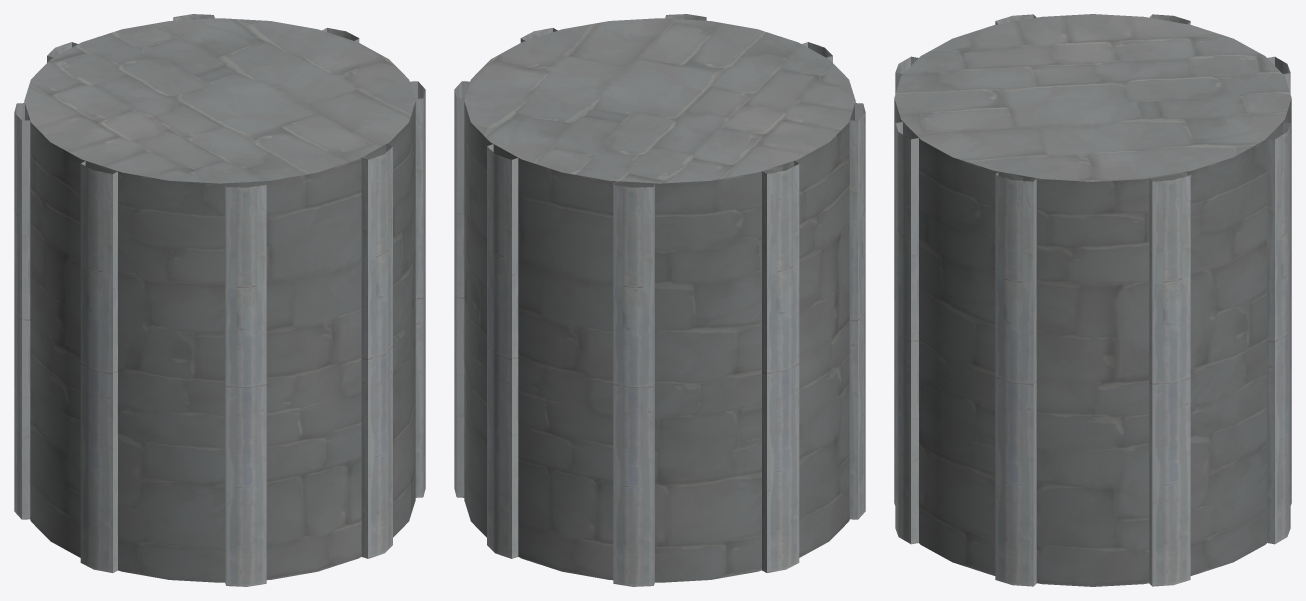
File: SM_TowerD_Mid.fbx
The picture shows the model from 3 angles, left to right: view 1: azimuth 30°, elevation 25°; view 2: azimuth 150°, elevation 25°; view 3: azimuth 270°, elevation 25°; orthographic projection.
Visible parts, largest first — view 1: SM_TowerD_Mid_LOD0; view 2: SM_TowerD_Mid_LOD0; view 3: SM_TowerD_Mid_LOD0.
Boxes of the visible parts, x1,y1,x2,y2 form: SM_TowerD_Mid_LOD0: (14,14,425,586); SM_TowerD_Mid_LOD0: (454,14,865,586); SM_TowerD_Mid_LOD0: (894,14,1291,586).
Size of what is drawn, in the model's own units: 400 by 450 by 400.
